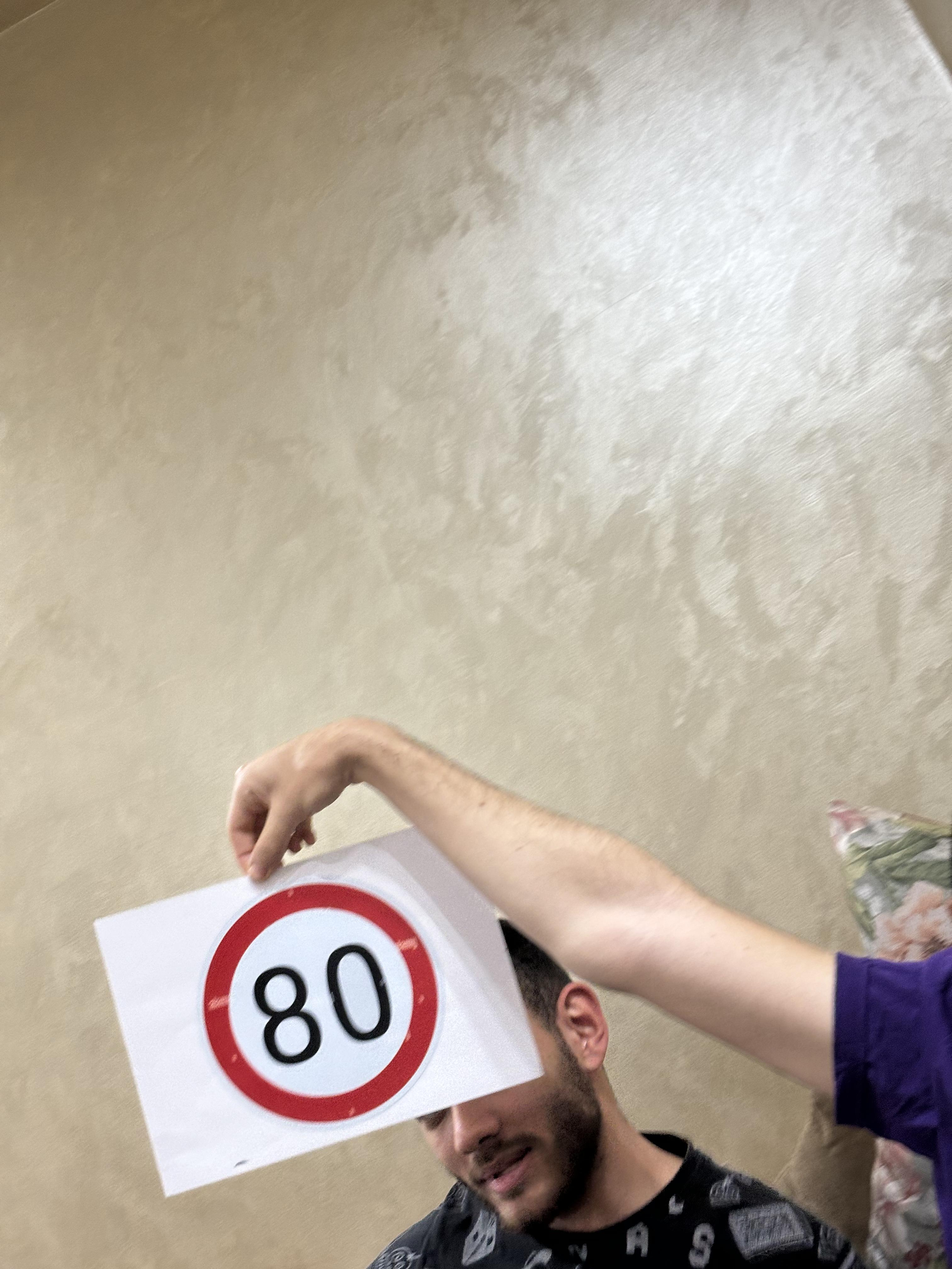80-Speed: (196, 879, 432, 1122)
